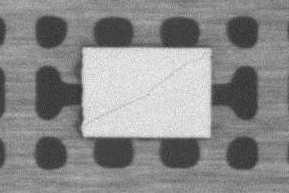DIE_CRACK: (83, 52, 207, 126)
